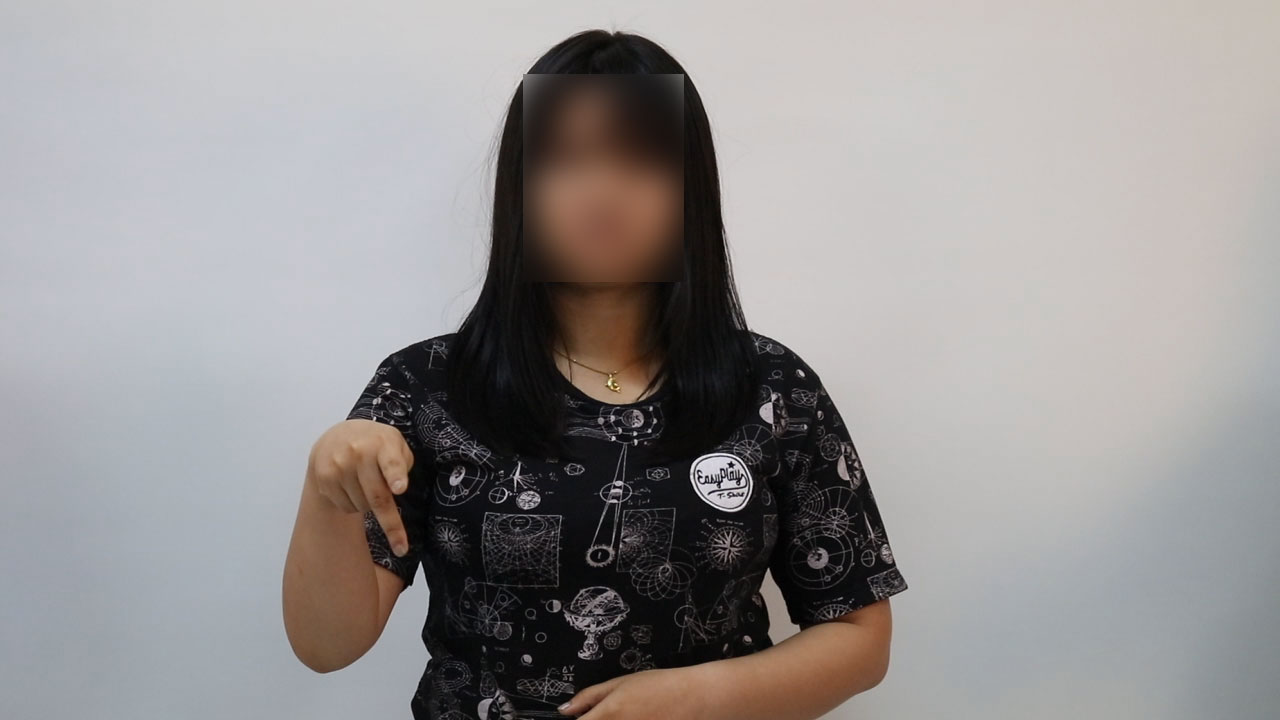por: (294, 411, 429, 566)
